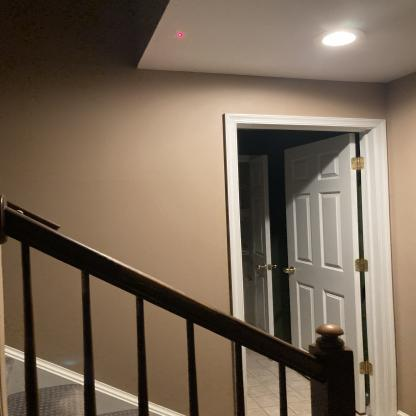target: (171, 28, 189, 41)
